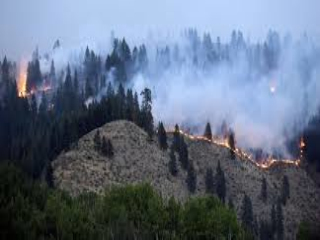fire: (235, 147, 311, 172), (163, 127, 233, 150), (5, 63, 34, 102)
smoke: (140, 23, 313, 119), (123, 72, 304, 148), (39, 38, 116, 85)
